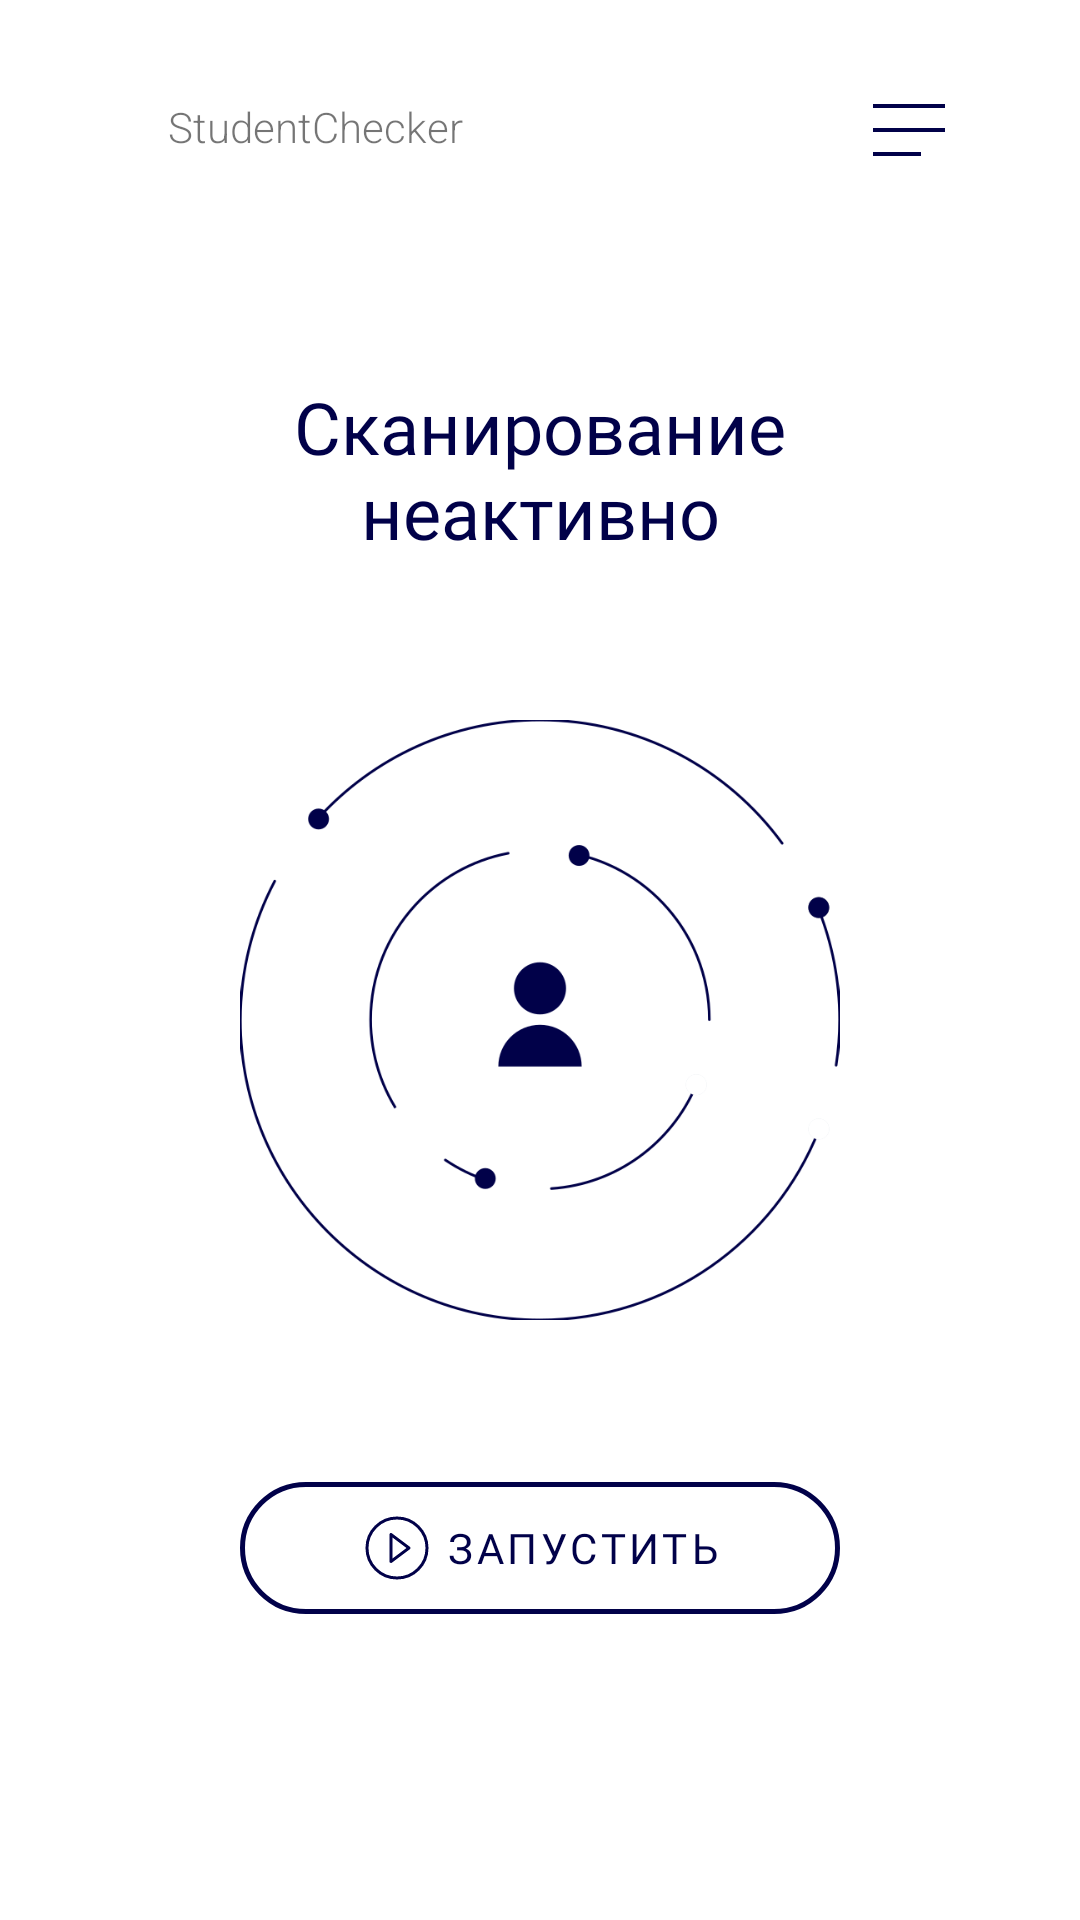

Screen size 1080x1920. Icon name, then its center in pixels as point (x, y):
Открыть меню: point (909, 130)
